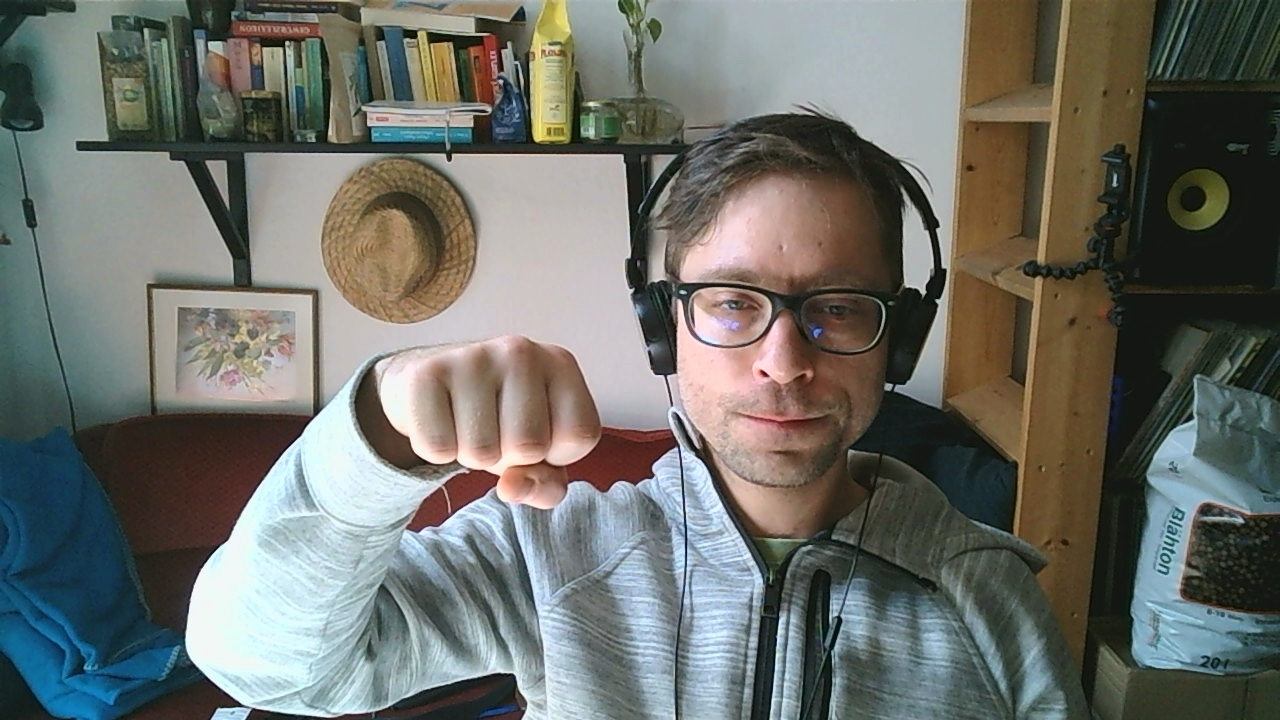yes: (379, 332, 605, 510)
